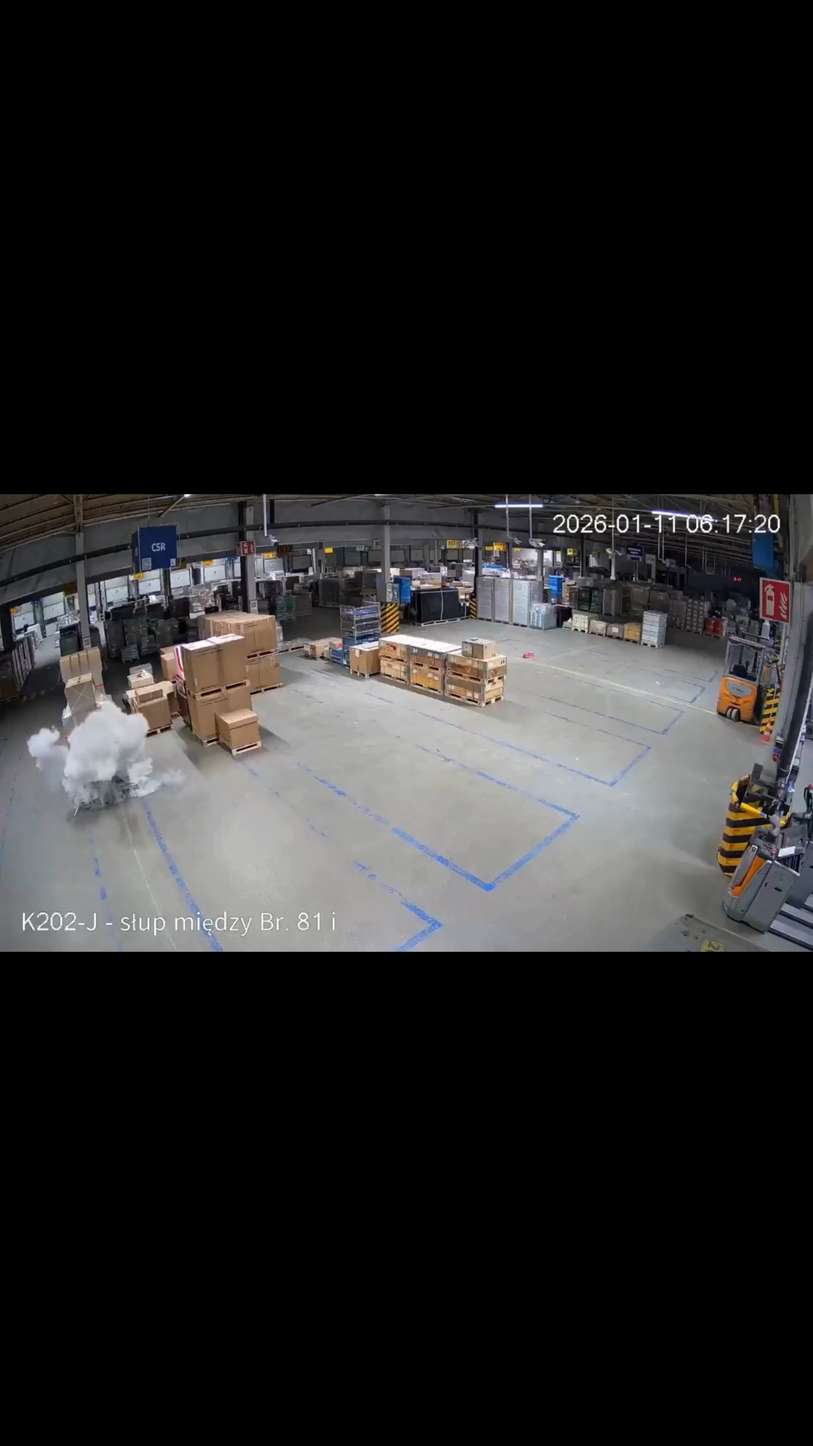smoke: (26, 693, 184, 813)
